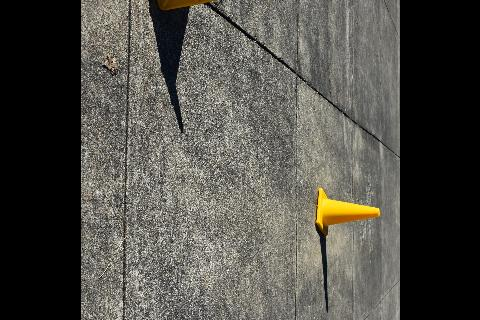cone: (315, 188, 379, 236)
